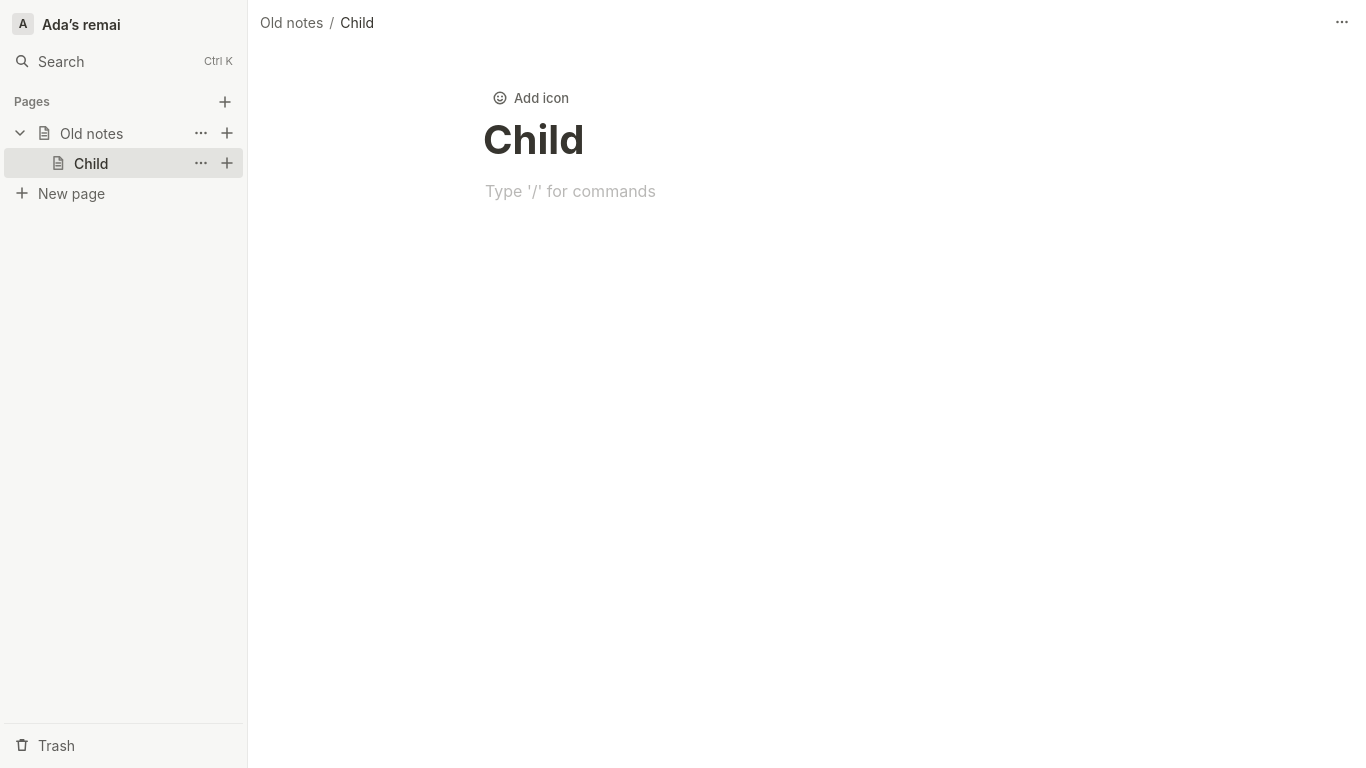
Test: Sidebar › moves the open page to the trash from the tree and leaves it
Expected: the text box named "Page title" is shown, [483,116,1131,164]
Click the button named "More actions for Old notes" at (201, 133), box [189,121,213,145]
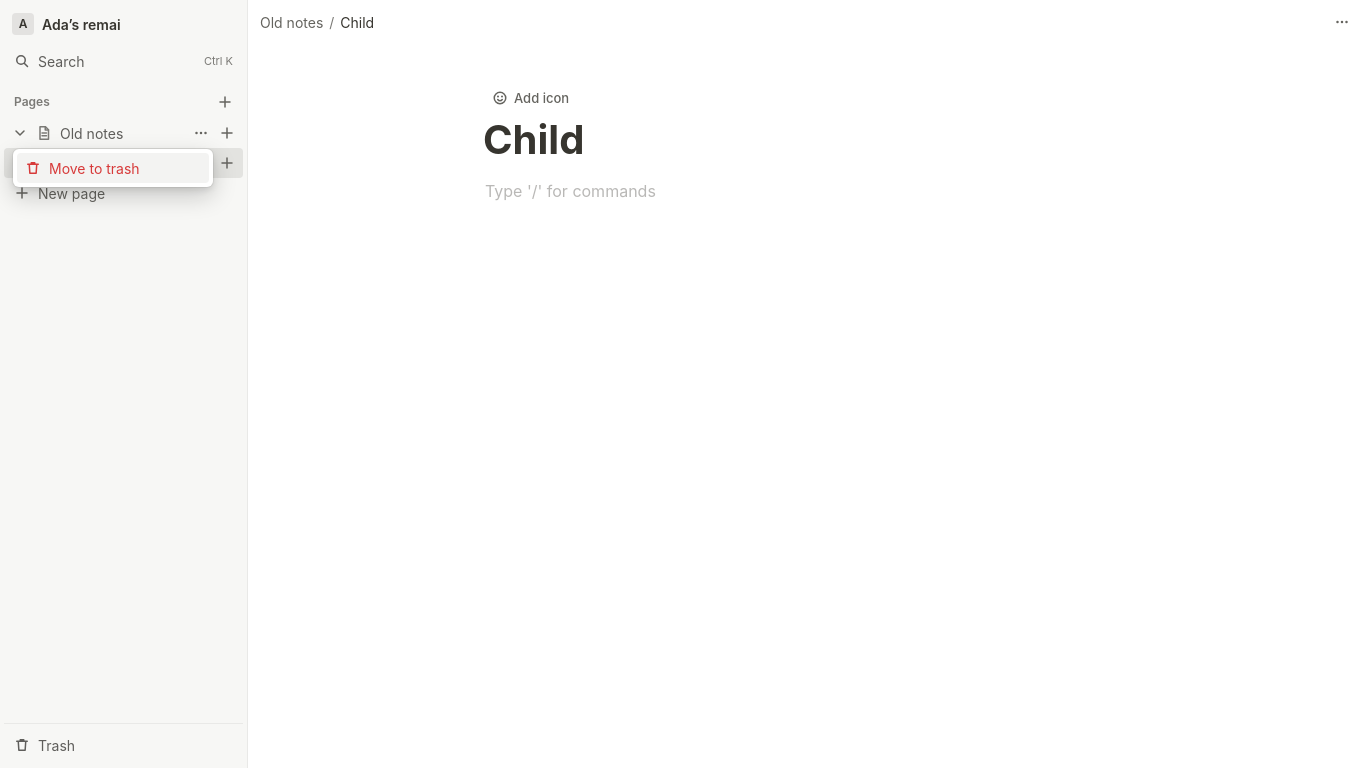
Click the menu item "Move to trash" at (113, 168), box [17,153,209,183]
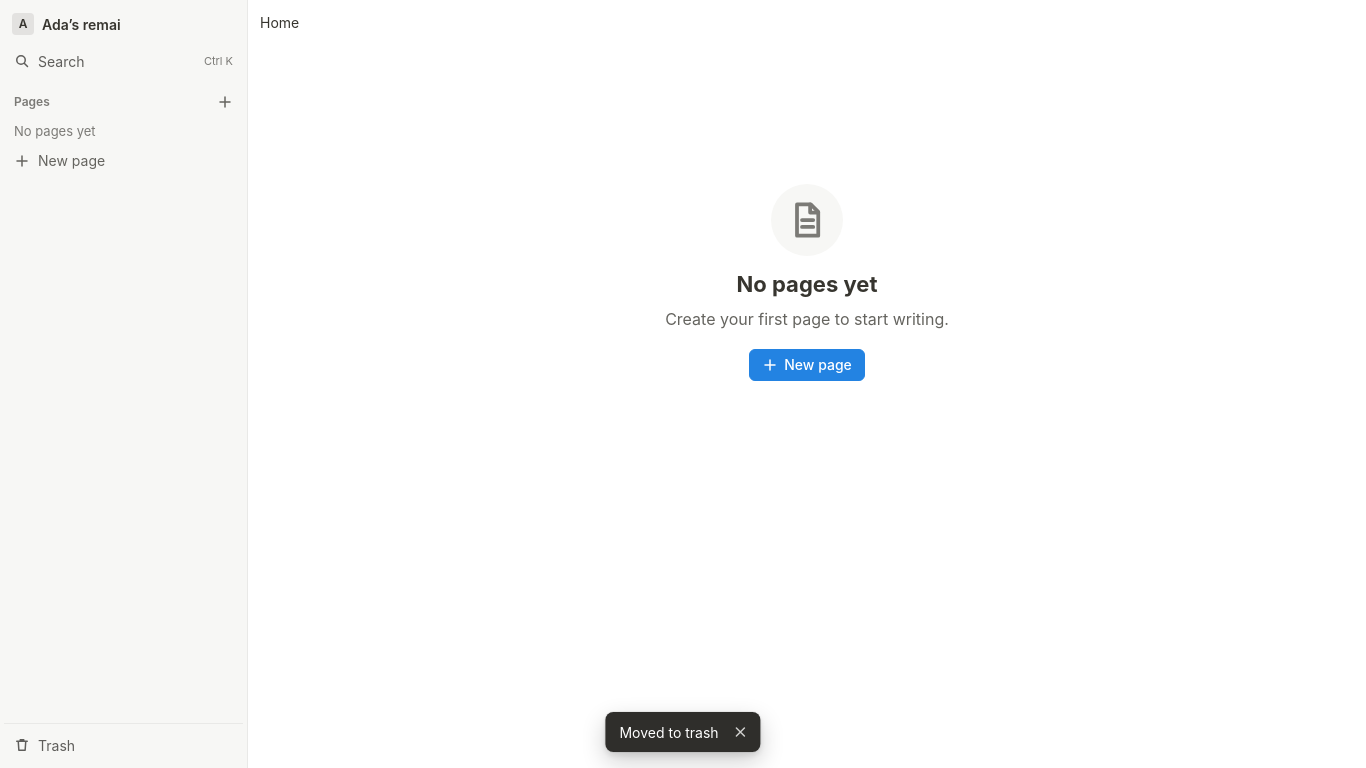
Expected: the link "Old notes" is gone
Expected: the link "Child" is gone
